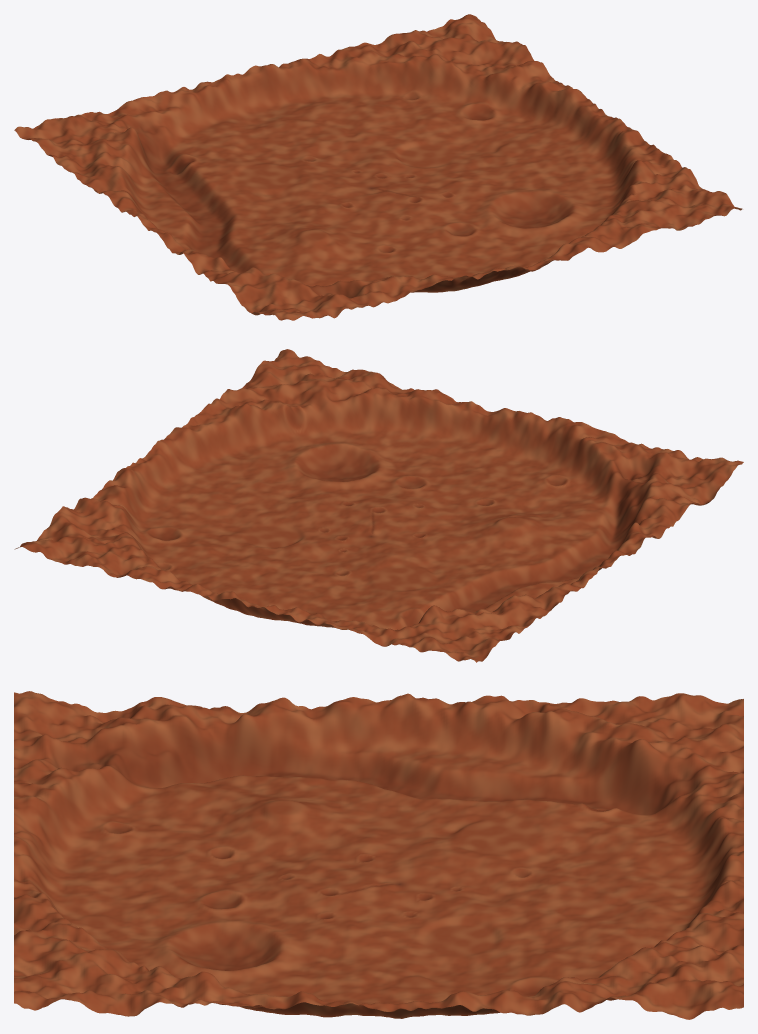
The model's file is terrain.glb.
The picture shows the model from 3 angles, top to bottom: view 1: azimuth 30°, elevation 25°; view 2: azimuth 150°, elevation 25°; view 3: azimuth 270°, elevation 25°; orthographic projection. The views are drawn at different scales.
Parts seen in each view (by area): view 1: Terrain; view 2: Terrain; view 3: Terrain.
Boxes of the visible parts, x1=… form: Terrain: x1=14, y1=14, x2=742, y2=320; Terrain: x1=14, y1=349, x2=743, y2=662; Terrain: x1=14, y1=691, x2=743, y2=1019.
Bounding box in the file's own units: 560 × 52.7 × 560.
